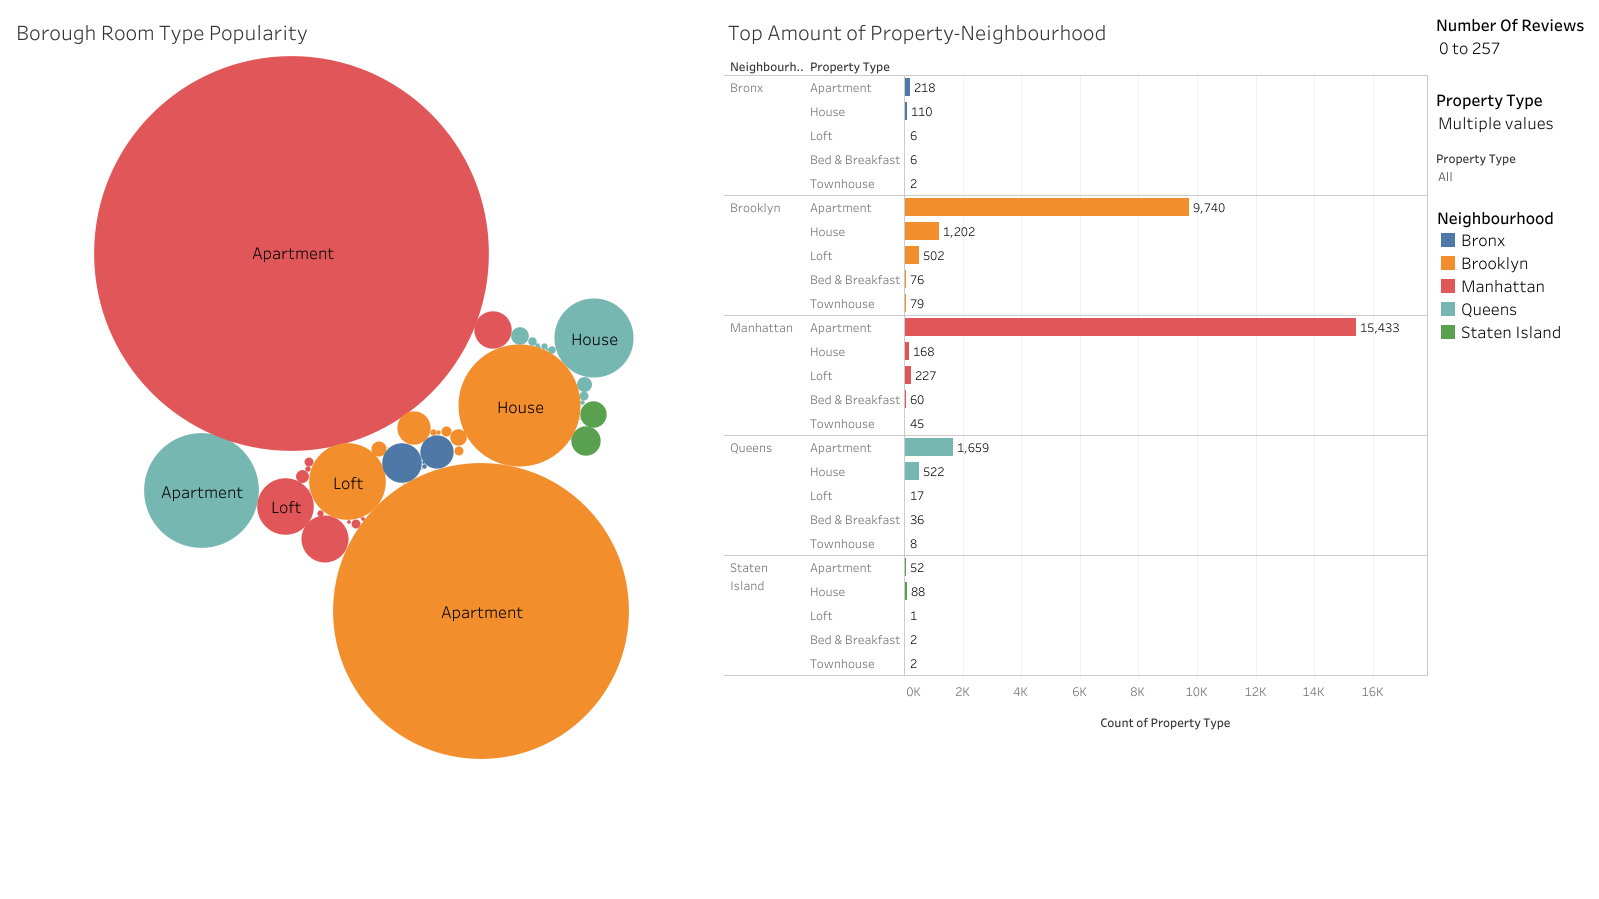

Layout of this report page (visuals, bound fields, positions):
{"tool":"tableau","page":{"name":"Popular Property Type","canvas":[1600,900],"ordinal":2},"visuals":[{"type":"worksheet","title":"Borough Room Type Popularity","mark":"Circle","box":[8,8,712,884]},{"type":"worksheet","title":"Top Amount of Property-Neighbourhood","mark":"Automatic","rows":["Neighbourhood","Property Type"],"cols":["Property Type"],"box":[720,8,712,884]},{"type":"filter","title":"Borough Room Type Popularity","param":"[federated.0j0w5ul0jr4dh91d4lxyd0nrqbqj].[none:Number Of Reviews:qk]","box":[1432,8,160,73]},{"type":"filter","title":"Borough Room Type Popularity","param":"[federated.0j0w5ul0jr4dh91d4lxyd0nrqbqj].[none:Property Type:nk]","box":[1432,81,160,61]},{"type":"filter","title":"Top Amount of Property-Neighbourhood","param":"[federated.0j0w5ul0jr4dh91d4lxyd0nrqbqj].[none:Property Type:nk]","box":[1432,142,160,153]},{"type":"legend","title":"Borough Room Type Popularity","param":"[federated.0j0w5ul0jr4dh91d4lxyd0nrqbqj].[none:Neighbourhood:nk]","box":[1432,295,160,135]}]}

Visuals, with their boxes in screenshot pixels (x1, y1, x2, y2), scaled from the page's 1600x900 canvas onto the 1599x899 screenshot:
"Borough Room Type Popularity" worksheet (Circle marks): 8 8 720 891
"Top Amount of Property-Neighbourhood" worksheet: 720 8 1431 891
"Borough Room Type Popularity" filter: 1431 8 1591 81
"Borough Room Type Popularity" filter: 1431 81 1591 142
"Top Amount of Property-Neighbourhood" filter: 1431 142 1591 295
"Borough Room Type Popularity" legend: 1431 295 1591 430
